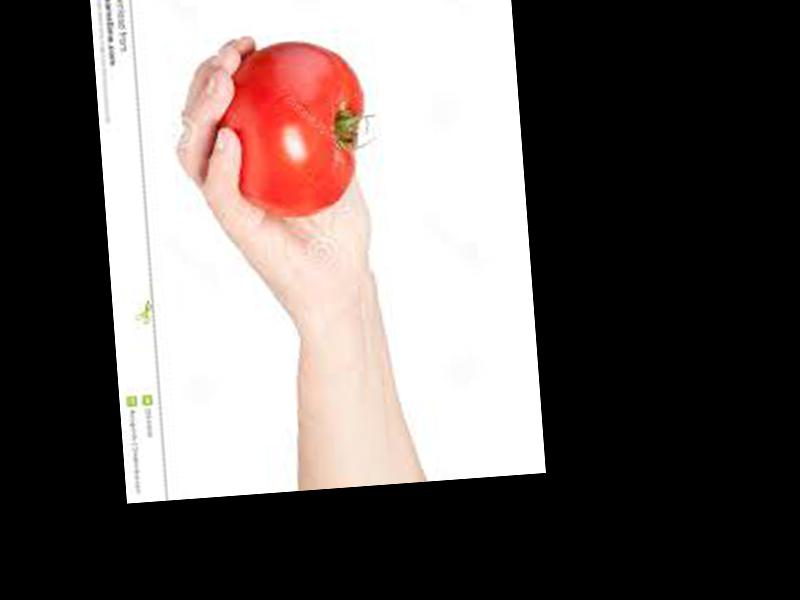Tomato: (213, 36, 373, 224)
